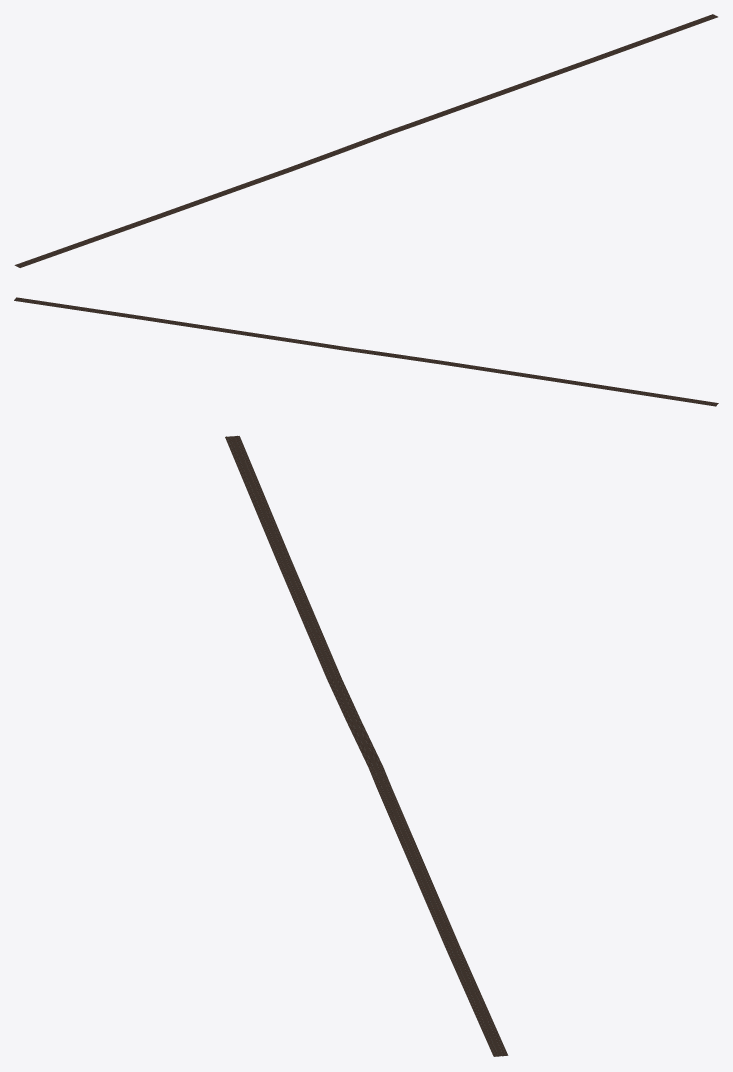
The model's file is kobe_0022.glb.
3 renders of one model, top to bottom at view 1: azimuth 30°, elevation 25°; view 2: azimuth 150°, elevation 25°; view 3: azimuth 270°, elevation 25°, orthographic. The views are drawn at different scales.
Visible parts, largest first — view 1: ballast_top, oxidised_rail_profiles; view 2: ballast_top, oxidised_rail_profiles, ballast_left; view 3: ballast_top, oxidised_rail_profiles.
Boxes of the visible parts, x1,y1,x2,y2 form: ballast_top: (14, 14, 717, 267); oxidised_rail_profiles: (15, 14, 717, 267); ballast_top: (14, 297, 718, 405); oxidised_rail_profiles: (15, 297, 717, 405); ballast_left: (14, 300, 716, 406); ballast_top: (225, 436, 507, 1056); oxidised_rail_profiles: (227, 436, 505, 1055).
Size of the model in its own units: 744 by 0.819 by 144.
Materials: 4 (3 with a texture image).
